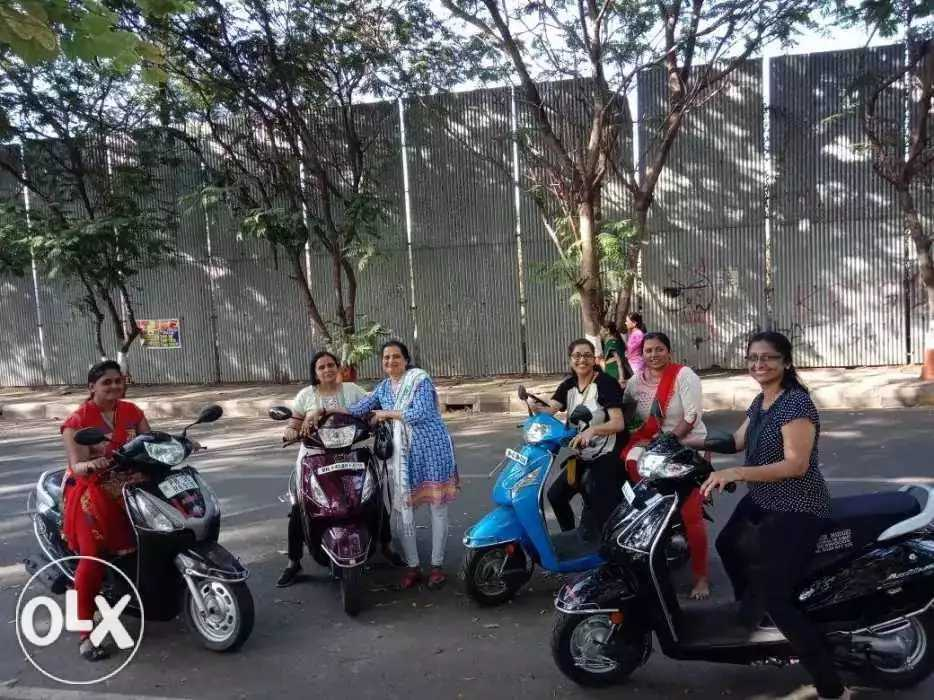scooter: (546, 402, 934, 690), (25, 404, 255, 656), (456, 383, 626, 607), (266, 404, 395, 614)
